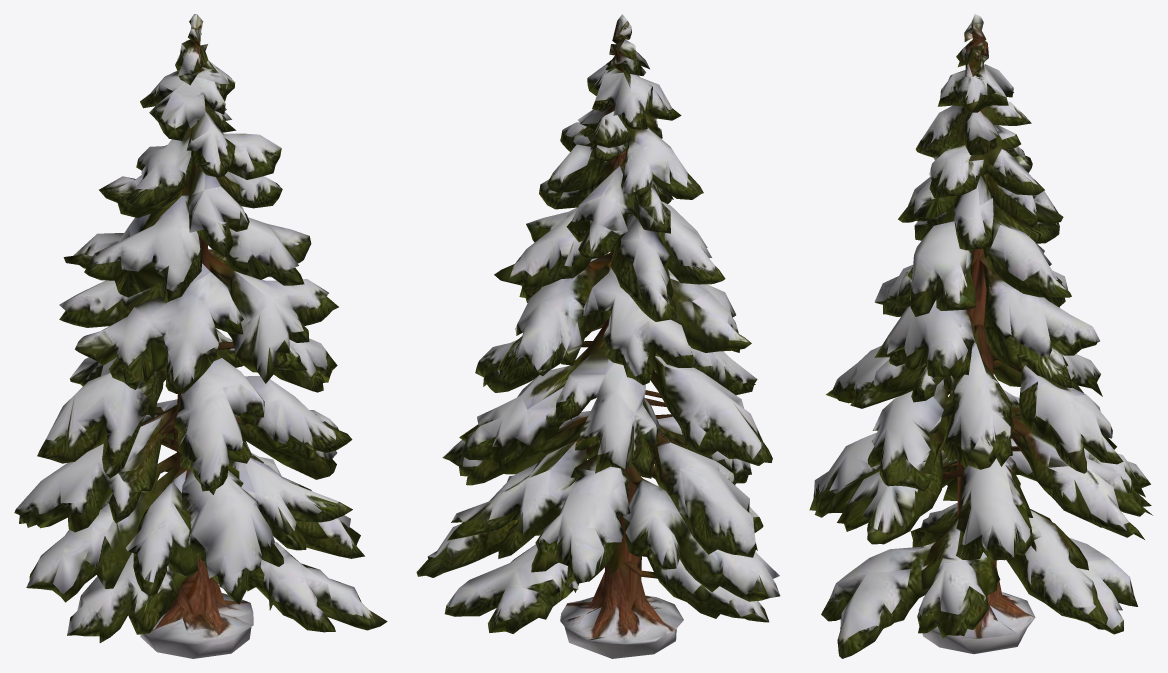
File: tall_tree.glb
3 views of the same model, side by side, from view 1: azimuth 30°, elevation 25°; view 2: azimuth 150°, elevation 25°; view 3: azimuth 270°, elevation 25° (orthographic).
Parts seen in each view (by area): view 1: Nyx; view 2: Nyx; view 3: Nyx.
Boxes of the visible parts, x1,y1,x2,y2 form: Nyx: (14, 14, 387, 658); Nyx: (416, 14, 780, 658); Nyx: (809, 14, 1152, 658).
Bounding box in the file's own units: 7.65 × 14 × 7.06.
1 material, 1 textured.
